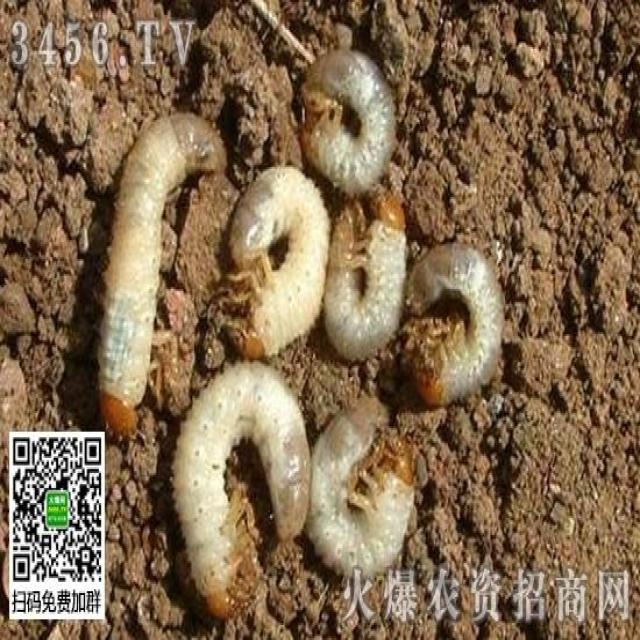grub: (96, 96, 225, 439), (170, 371, 316, 622), (230, 153, 333, 356), (400, 238, 514, 410), (303, 405, 416, 574), (296, 45, 407, 190), (319, 197, 410, 362)
